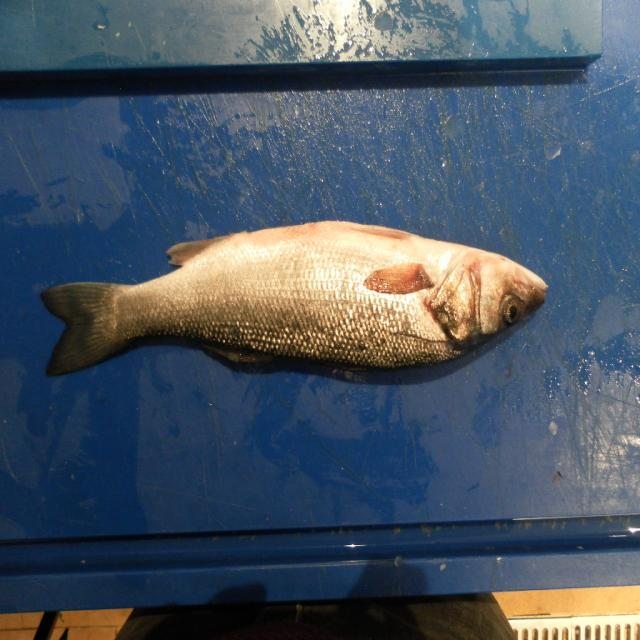Sea-Bass-levrek-: (39, 222, 549, 382)
